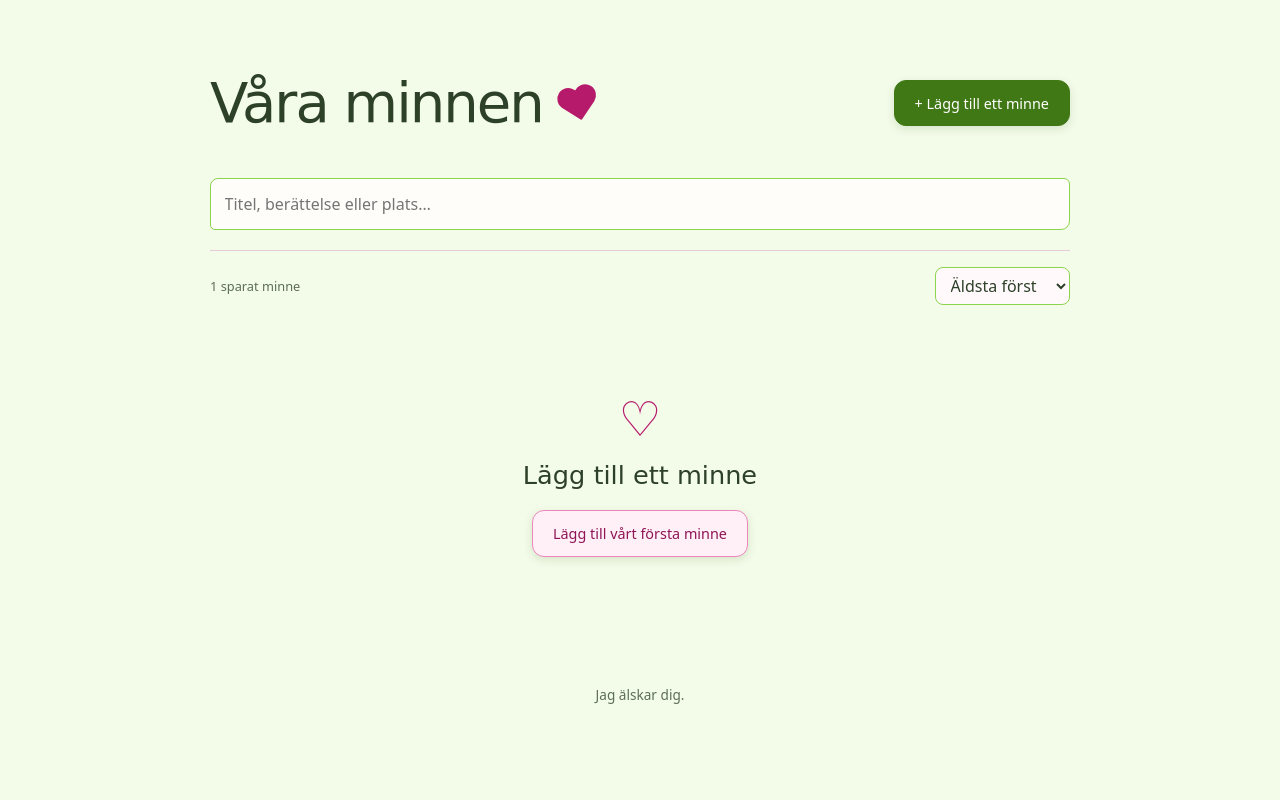
our story › creates a memory from the empty state
Click the button "Lägg till vårt första minne": (640, 534) [532, 510, 748, 557]
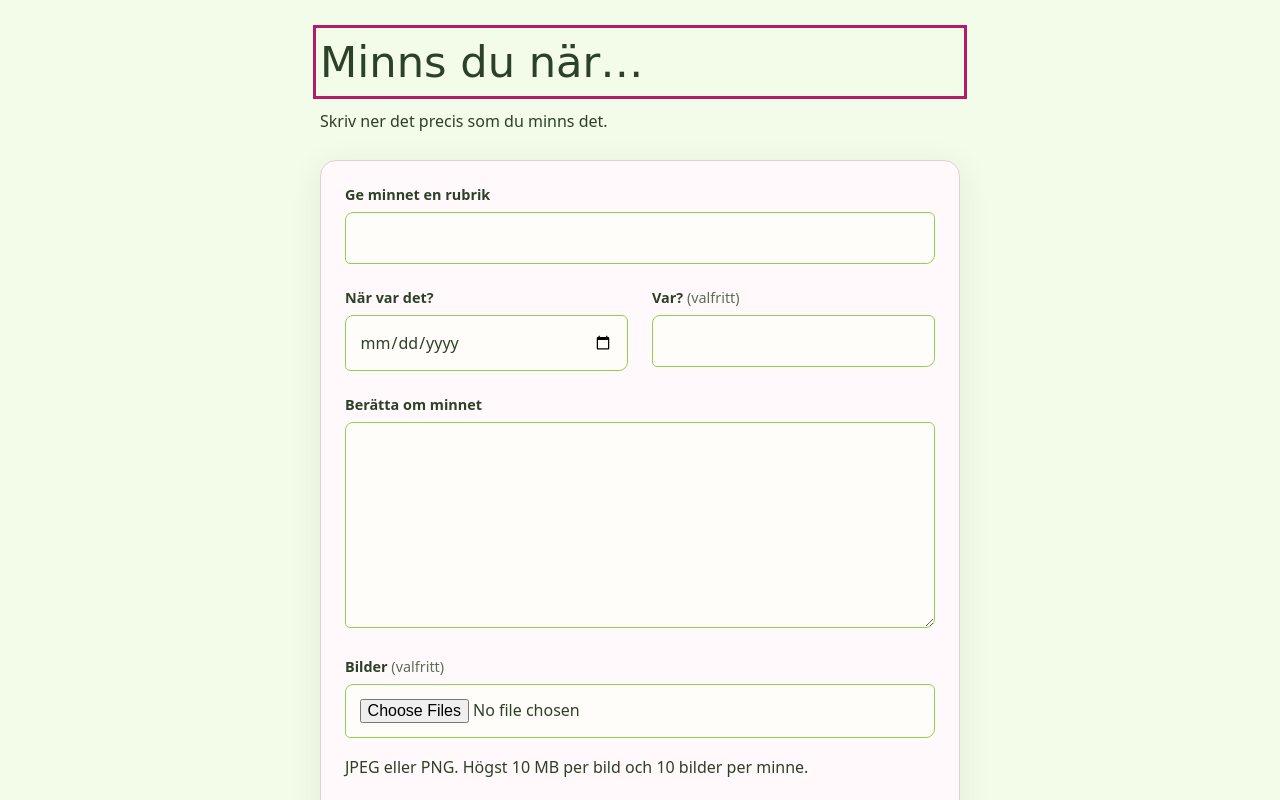
In the field labelled "Ge minnet en rubrik": (640, 238) [345, 212, 935, 264], type "Our first walk"
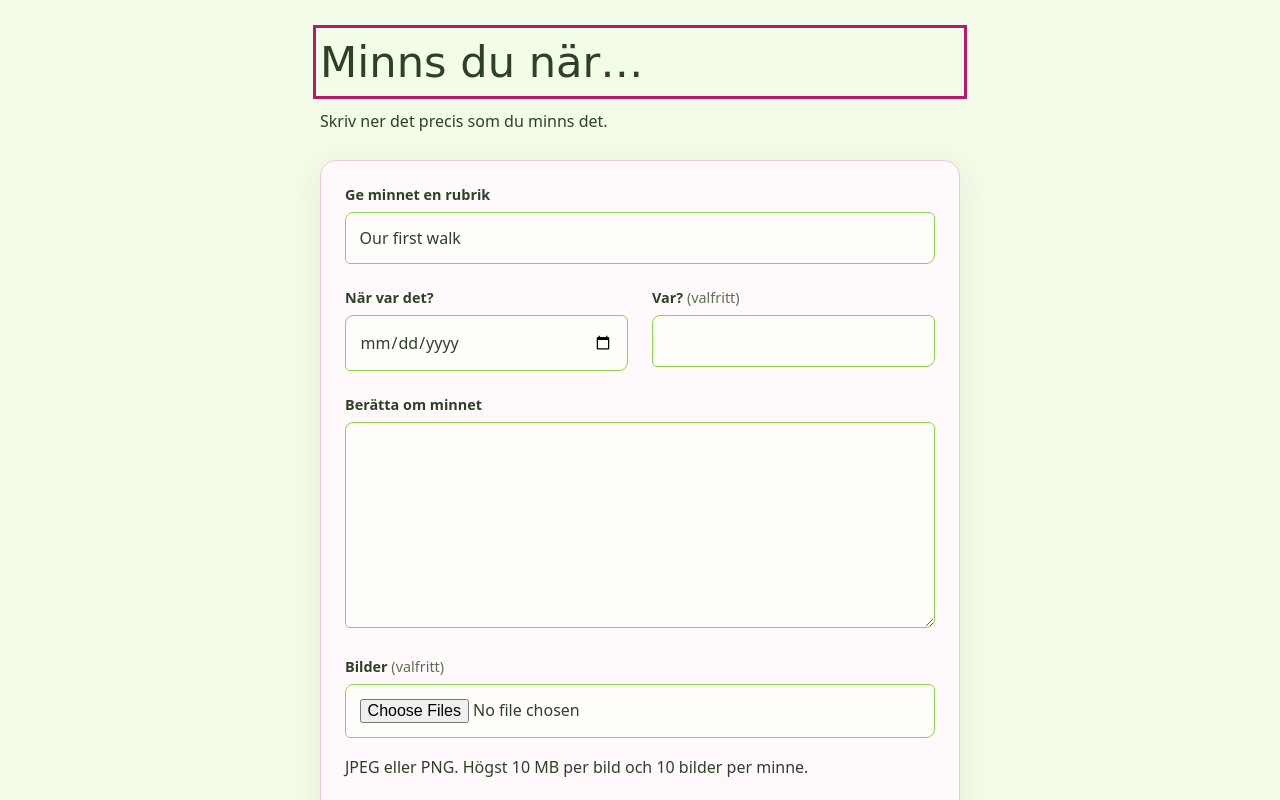
In the date field labelled "När var det?": (486, 343) [345, 316, 628, 371], type "2026-01-10"
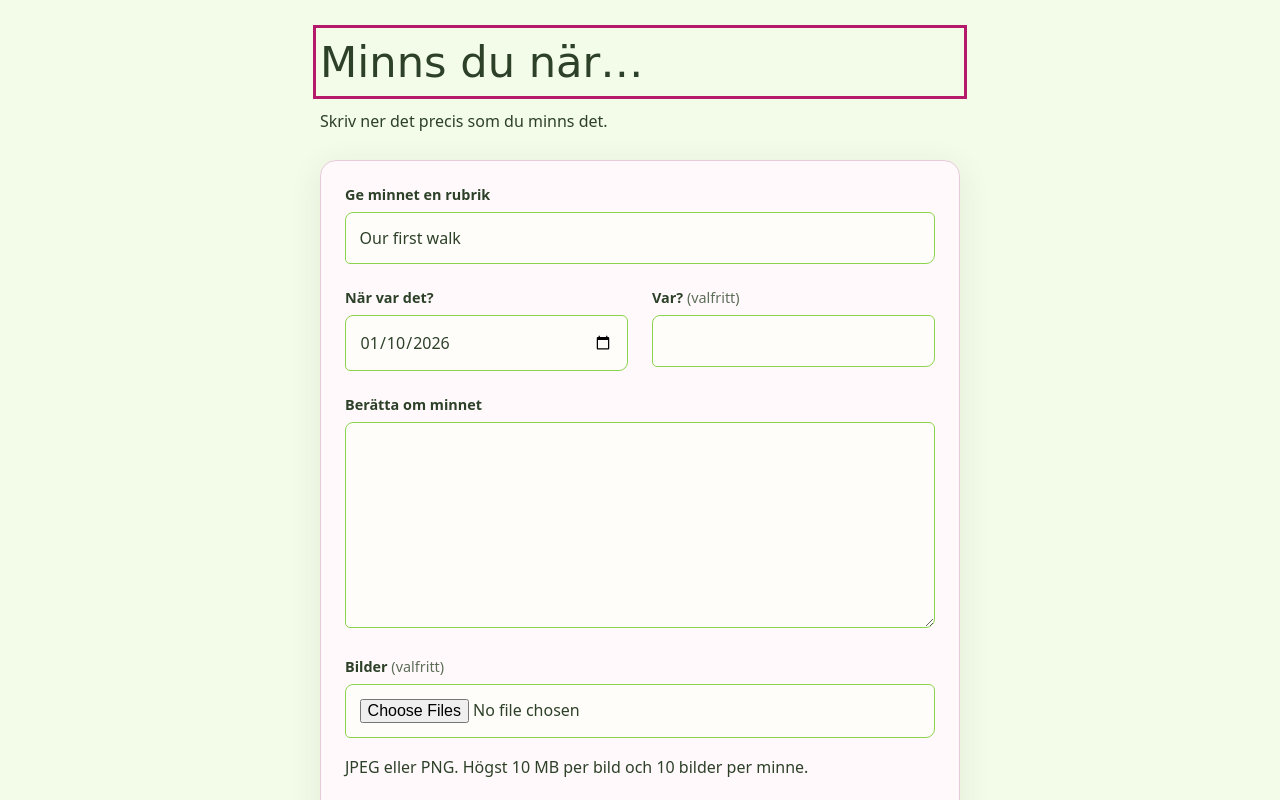
In the text box labelled "Berätta om minnet": (640, 525) [345, 422, 935, 628], type "Coffee by the water."
(page scrolled)
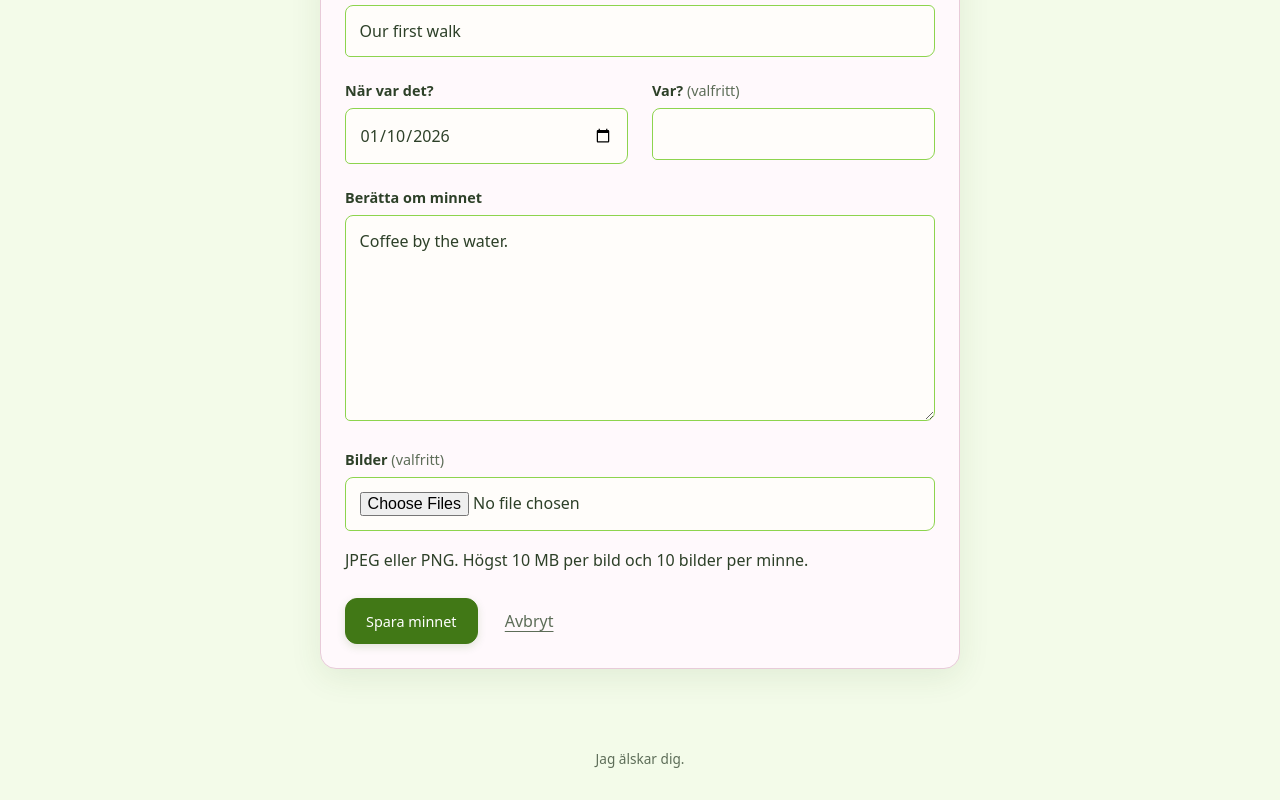
Click the button "Spara minnet": (411, 621) [345, 598, 478, 644]
(page scrolled)
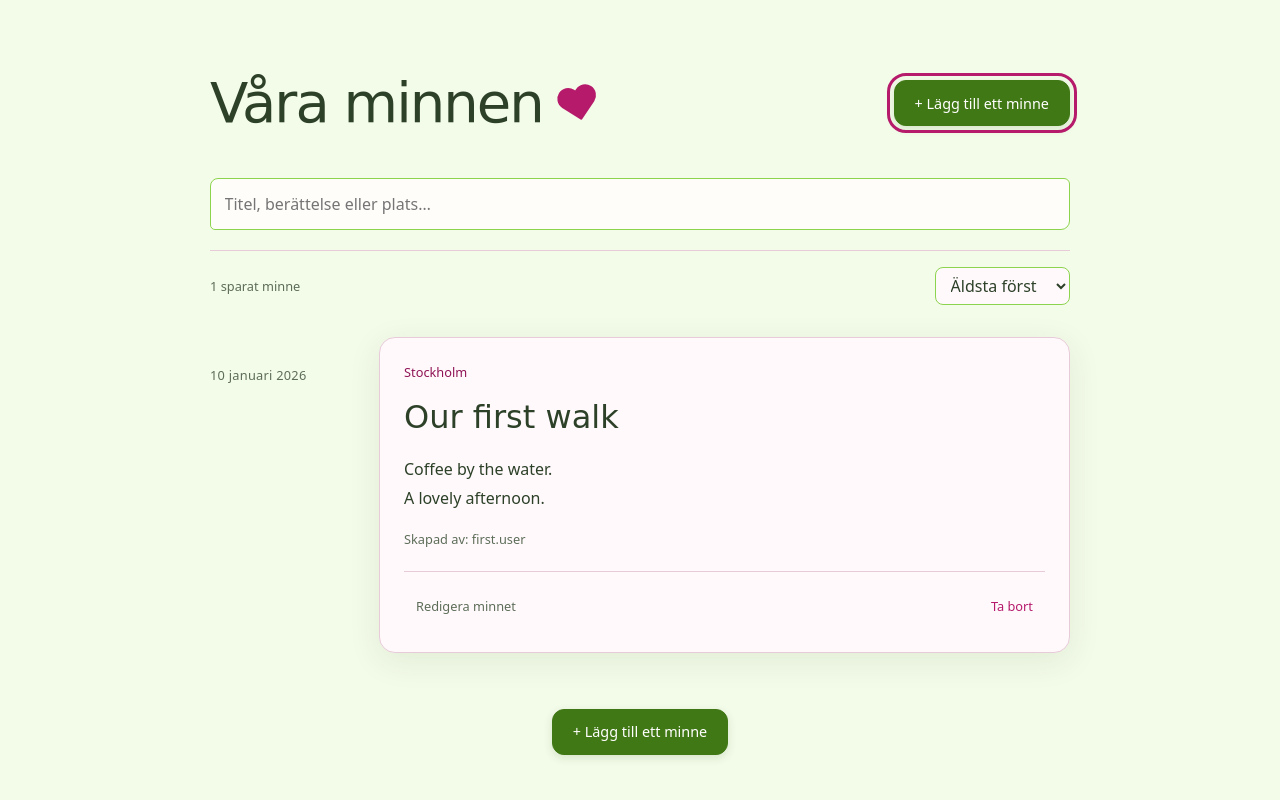
Result: the heading "Our first walk" is shown at [404, 398, 619, 436]
